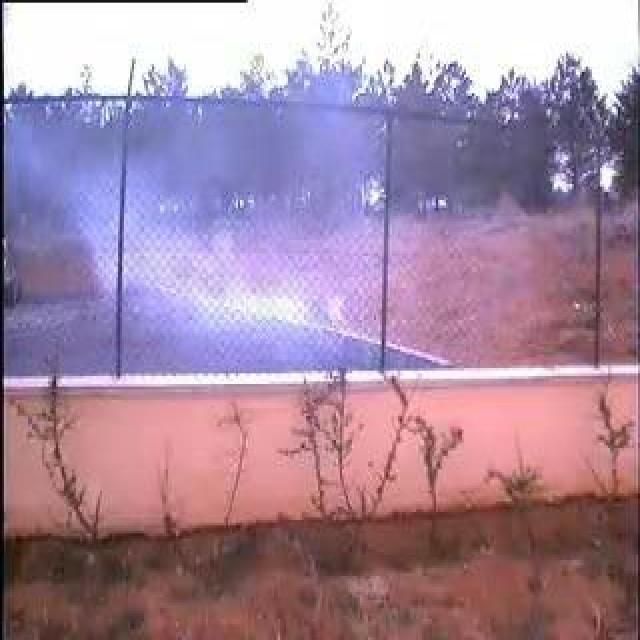Smoke: (123, 114, 385, 378)
